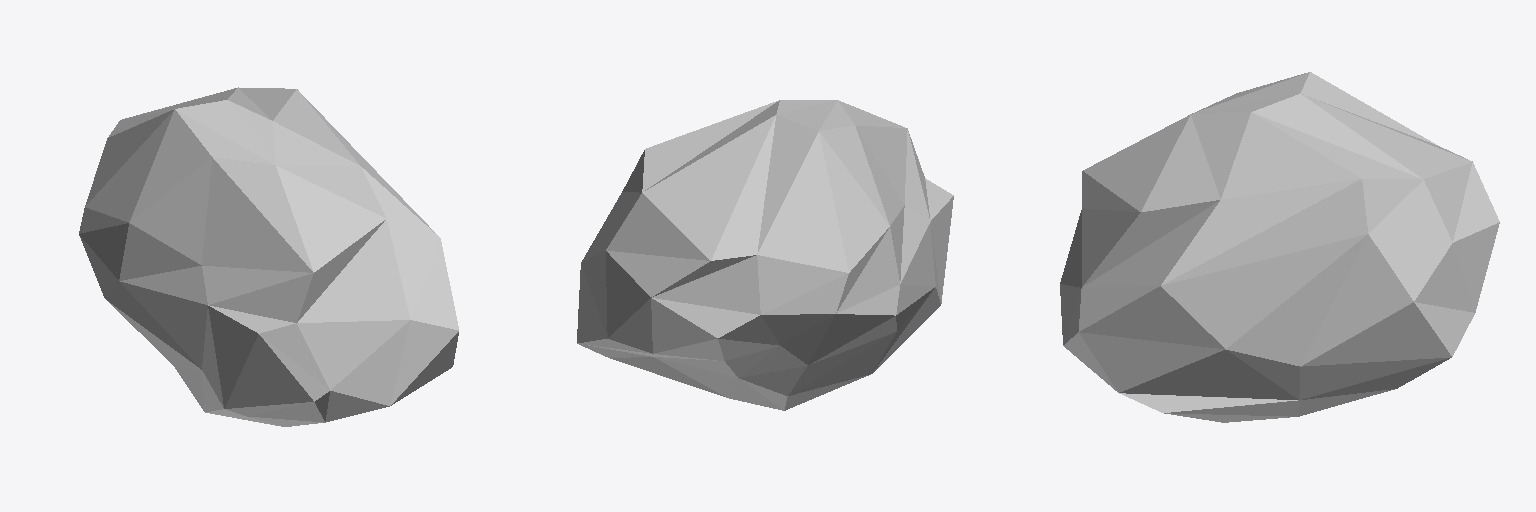
The model's file is Rock2.obj.
The picture shows the model from 3 angles: view 1: azimuth 30°, elevation 25°; view 2: azimuth 150°, elevation 25°; view 3: azimuth 270°, elevation 25°; orthographic projection.
Visible parts, largest first — view 1: Rock2; view 2: Rock2; view 3: Rock2.
Part boxes in pixels (x1,y1,x2,y2): Rock2: (79, 87, 458, 426); Rock2: (577, 100, 953, 410); Rock2: (1060, 72, 1499, 422).
Bounding box in the file's own units: 3.3 × 3.46 × 4.5.